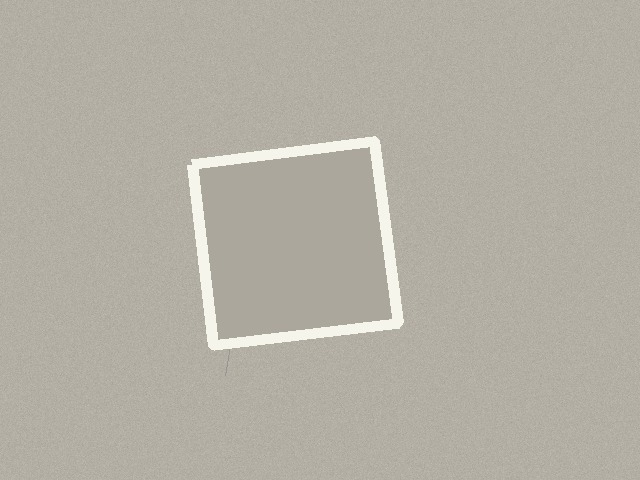parking_area: (192, 141, 398, 345)
